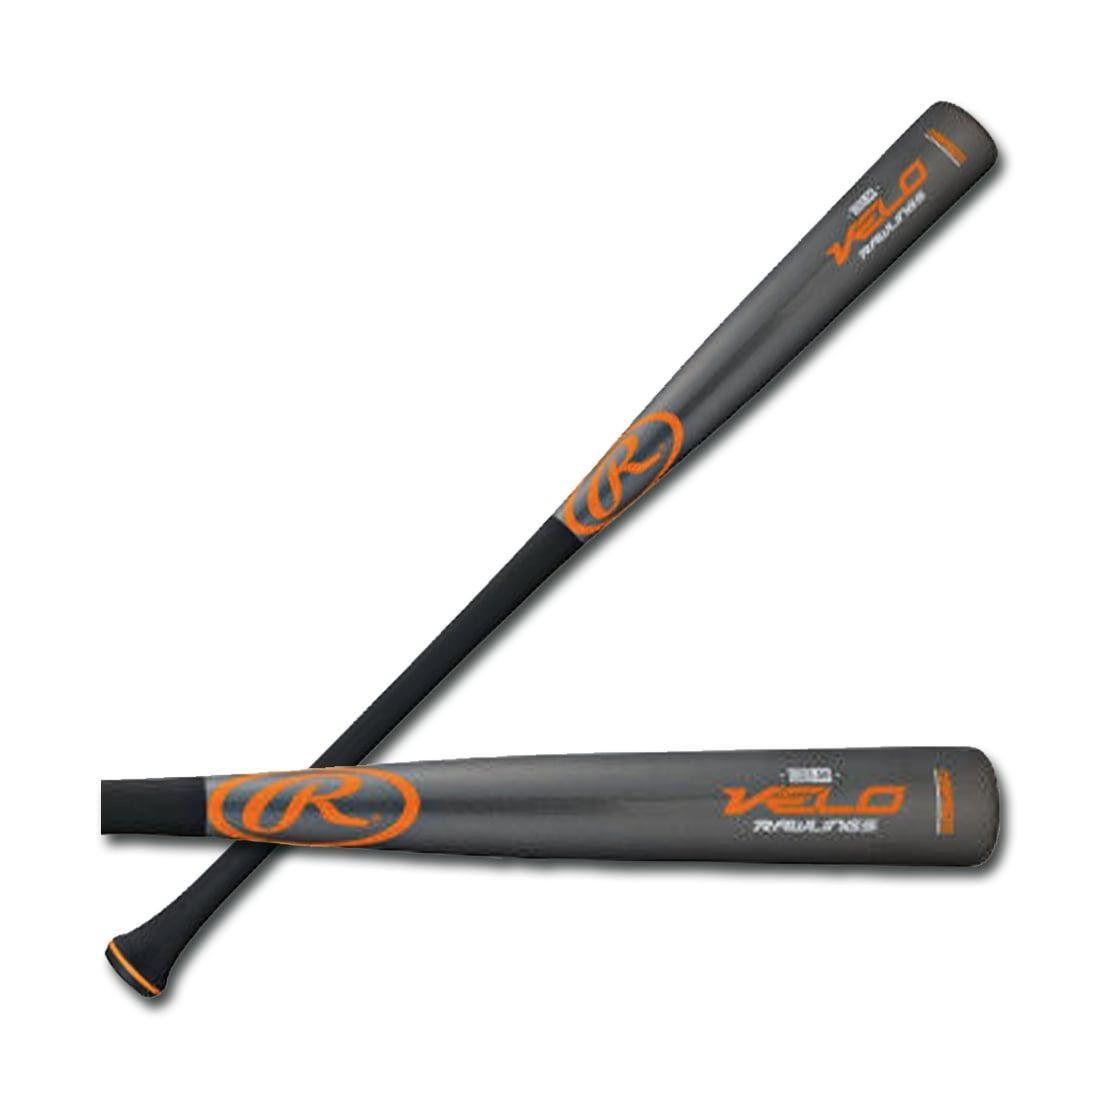Baseball-Bat: (97, 97, 1006, 1011), (93, 750, 1002, 885)
